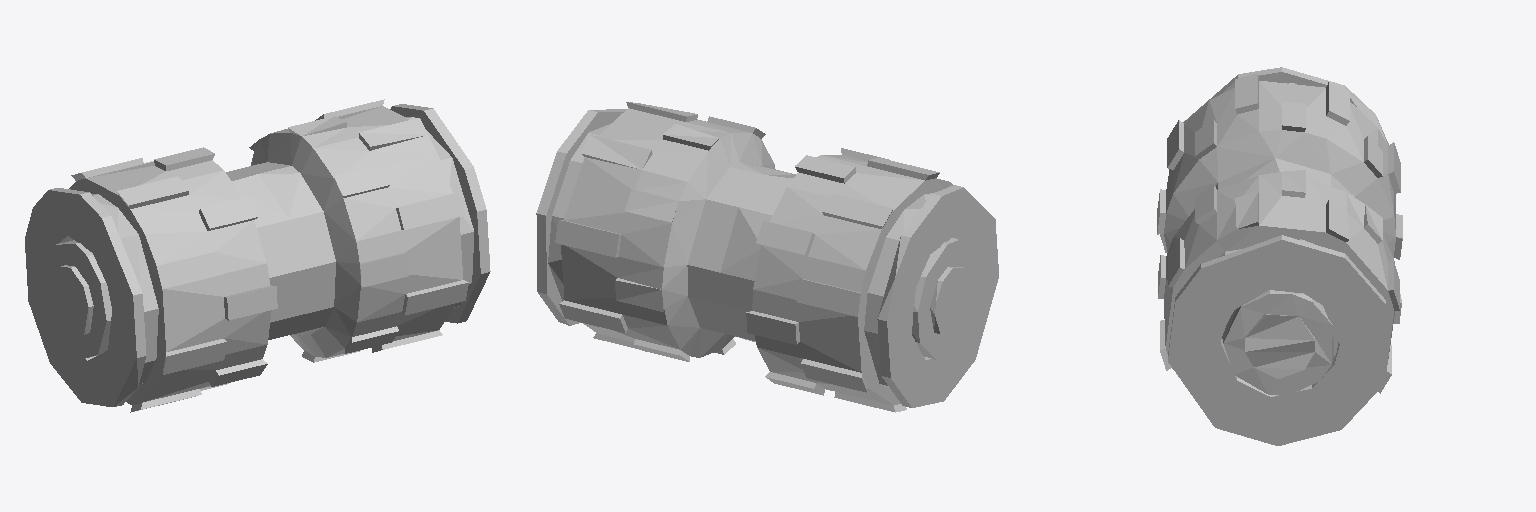
The model's file is Kola_000012.obj.
3 renders of one model, left to right at view 1: azimuth 30°, elevation 25°; view 2: azimuth 150°, elevation 25°; view 3: azimuth 270°, elevation 25°, orthographic.
Visible parts, largest first — view 1: Cylinder.004; view 2: Cylinder.004; view 3: Cylinder.004.
Part boxes in pixels (x1,y1,x2,y2): Cylinder.004: (25, 99, 490, 412); Cylinder.004: (536, 102, 998, 412); Cylinder.004: (1157, 67, 1402, 445).
Size of the model in its own units: 2.17 by 1.25 by 1.25.